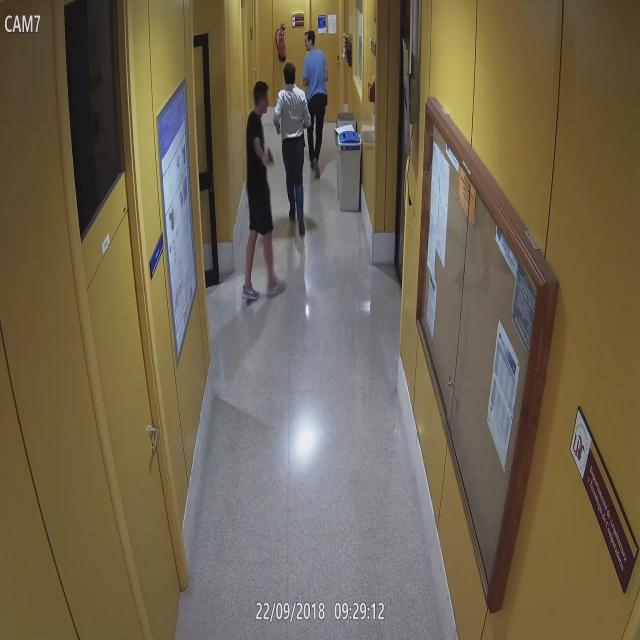weapon: (262, 149, 274, 165)
